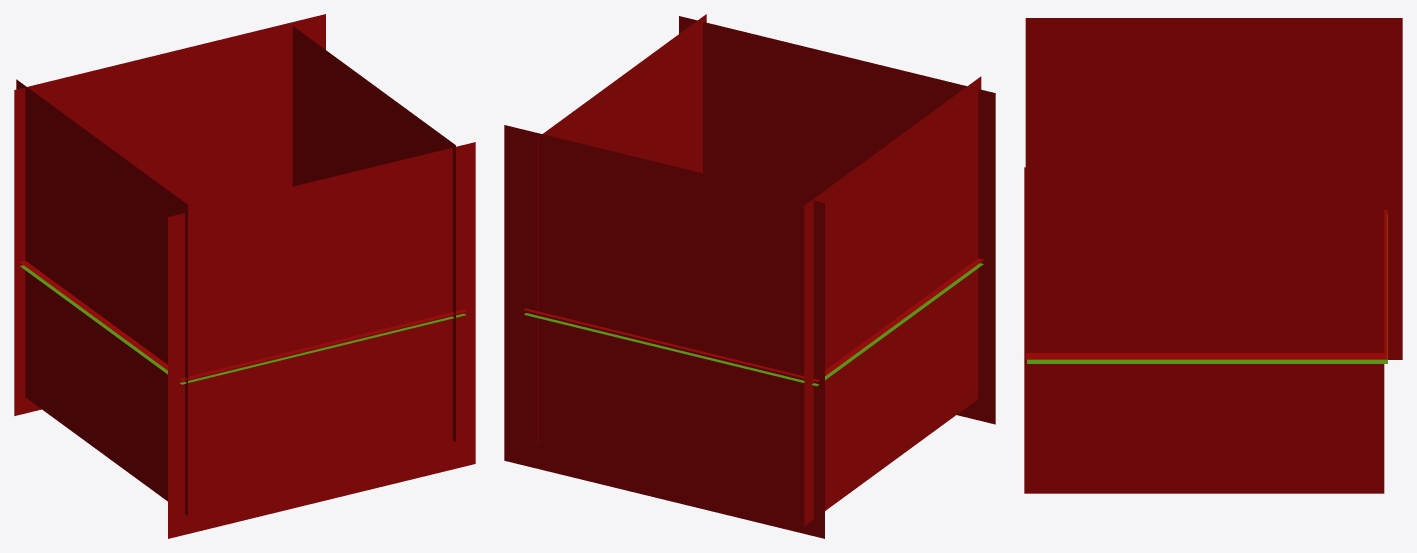
The model's file is scena2.obj.
The picture shows the model from 3 angles, left to right: view 1: azimuth 30°, elevation 25°; view 2: azimuth 150°, elevation 25°; view 3: azimuth 270°, elevation 25°; orthographic projection. The views are drawn at different scales.
Visible parts, largest first — view 1: Plane.003, Plane.004, Plane.005, Plane.006, Plane.001, Plane; view 2: Plane.005, Plane.004, Plane.003, Plane.006, Plane.001, Plane; view 3: Plane.006, Plane.004, Plane.001, Plane.
Boxes of the visible parts, x1=… form: Plane.003: x1=168, y1=142, x2=475, y2=538; Plane.004: x1=16, y1=79, x2=187, y2=515; Plane.005: x1=14, y1=14, x2=325, y2=415; Plane.006: x1=292, y1=26, x2=455, y2=442; Plane.001: x1=20, y1=260, x2=466, y2=380; Plane: x1=20, y1=265, x2=466, y2=384; Plane.005: x1=504, y1=125, x2=824, y2=538; Plane.004: x1=804, y1=76, x2=981, y2=525; Plane.003: x1=679, y1=16, x2=995, y2=424; Plane.006: x1=537, y1=14, x2=706, y2=443; Plane.001: x1=524, y1=258, x2=983, y2=381; Plane: x1=524, y1=263, x2=983, y2=386; Plane.006: x1=1024, y1=167, x2=1384, y2=493; Plane.004: x1=1025, y1=18, x2=1402, y2=359; Plane.001: x1=1025, y1=210, x2=1387, y2=359; Plane: x1=1027, y1=215, x2=1387, y2=363.
Bounding box in the file's own units: 128 × 128 × 121.
